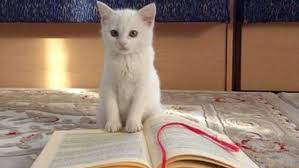cat: (95, 1, 156, 57)
